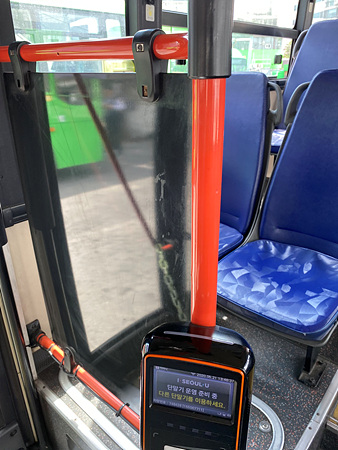terminal: (146, 322, 250, 445)
